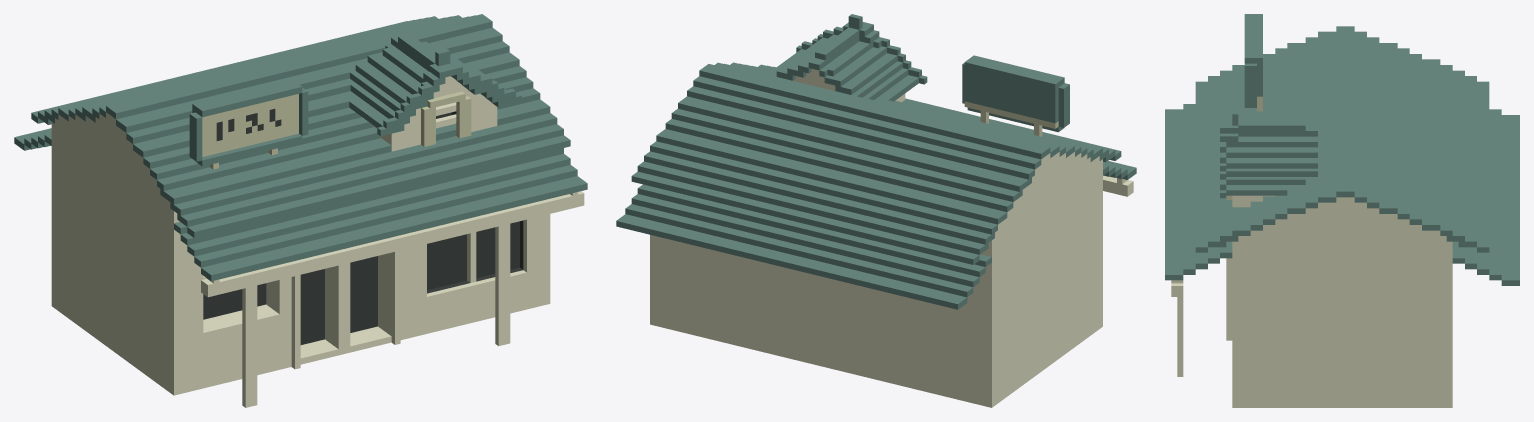
Rendered from Station.obj.
3 views of the same model, side by side, from view 1: azimuth 30°, elevation 25°; view 2: azimuth 150°, elevation 25°; view 3: azimuth 270°, elevation 25° (orthographic). The views are drawn at different scales.
Size of the model in its own units: 6.4 by 4.5 by 5.8.
Materials: 1 (1 with a texture image).
